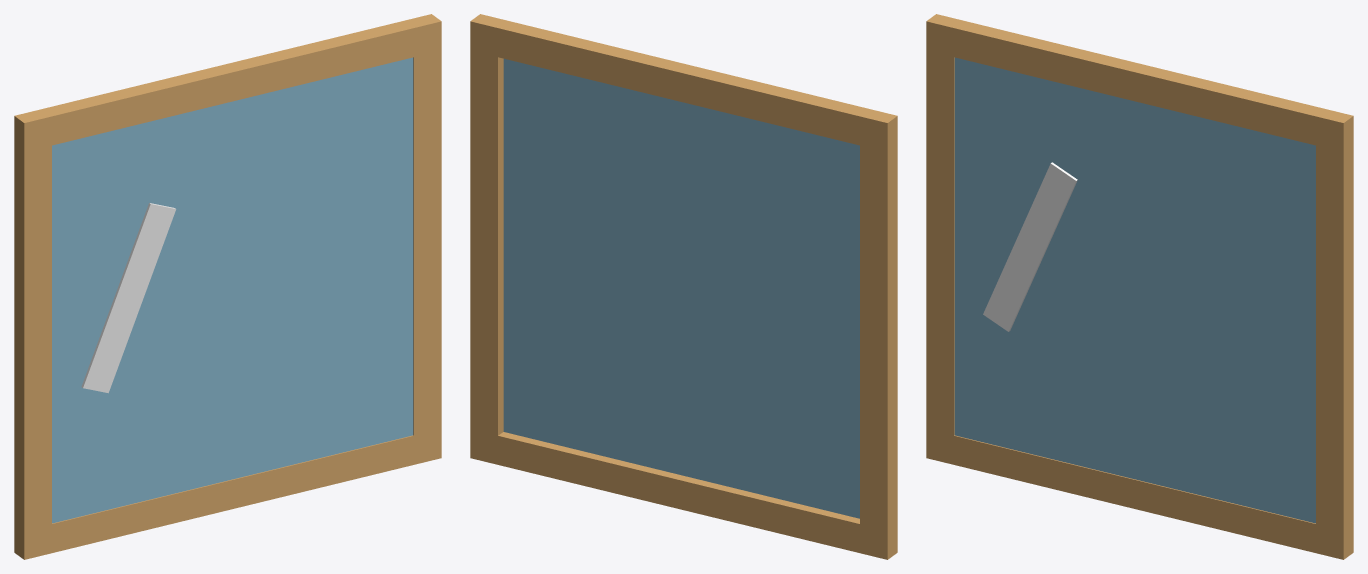
The model's file is mirror.glb.
3 renders of one model, left to right at view 1: azimuth 30°, elevation 25°; view 2: azimuth 150°, elevation 25°; view 3: azimuth 330°, elevation 25°, orthographic.
Parts seen in each view (by area): view 1: root; view 2: root; view 3: root.
Boxes of the visible parts, x1,y1,x2,y2 form: root: (14, 14, 441, 559); root: (470, 14, 897, 559); root: (926, 14, 1353, 559).
Size of the model in its own units: 1.2 by 1.2 by 0.055.
